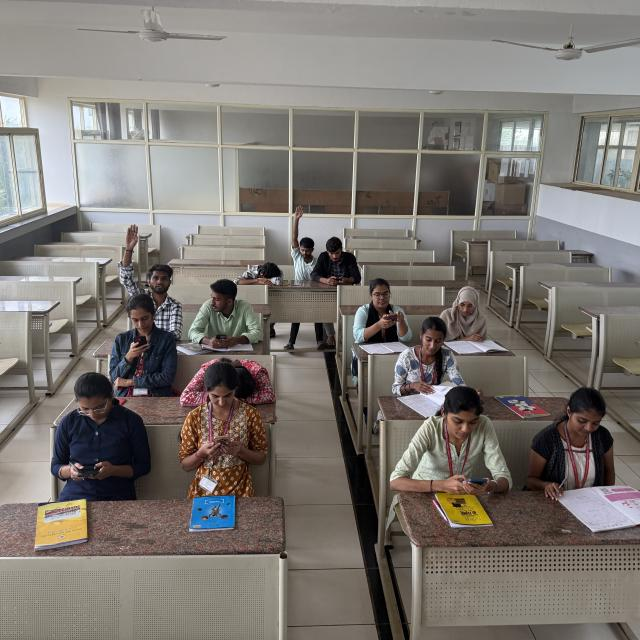Hand Rising: (119, 218, 180, 314), (287, 204, 318, 276)
Reading: (394, 320, 472, 412), (442, 282, 498, 352)
Sleeping: (177, 356, 274, 407), (235, 258, 287, 290)
Using Phone: (395, 384, 510, 496), (46, 363, 150, 485), (180, 365, 266, 489), (109, 291, 174, 380), (189, 276, 258, 350), (350, 280, 412, 340), (314, 235, 362, 290)
Writing: (528, 383, 640, 505)
